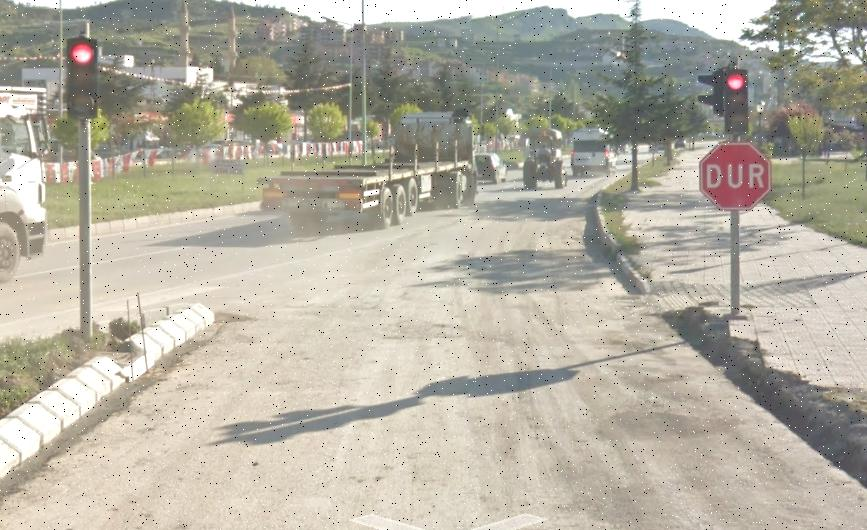redlight: (65, 37, 98, 116), (723, 67, 749, 133)
stop: (700, 142, 772, 208)
